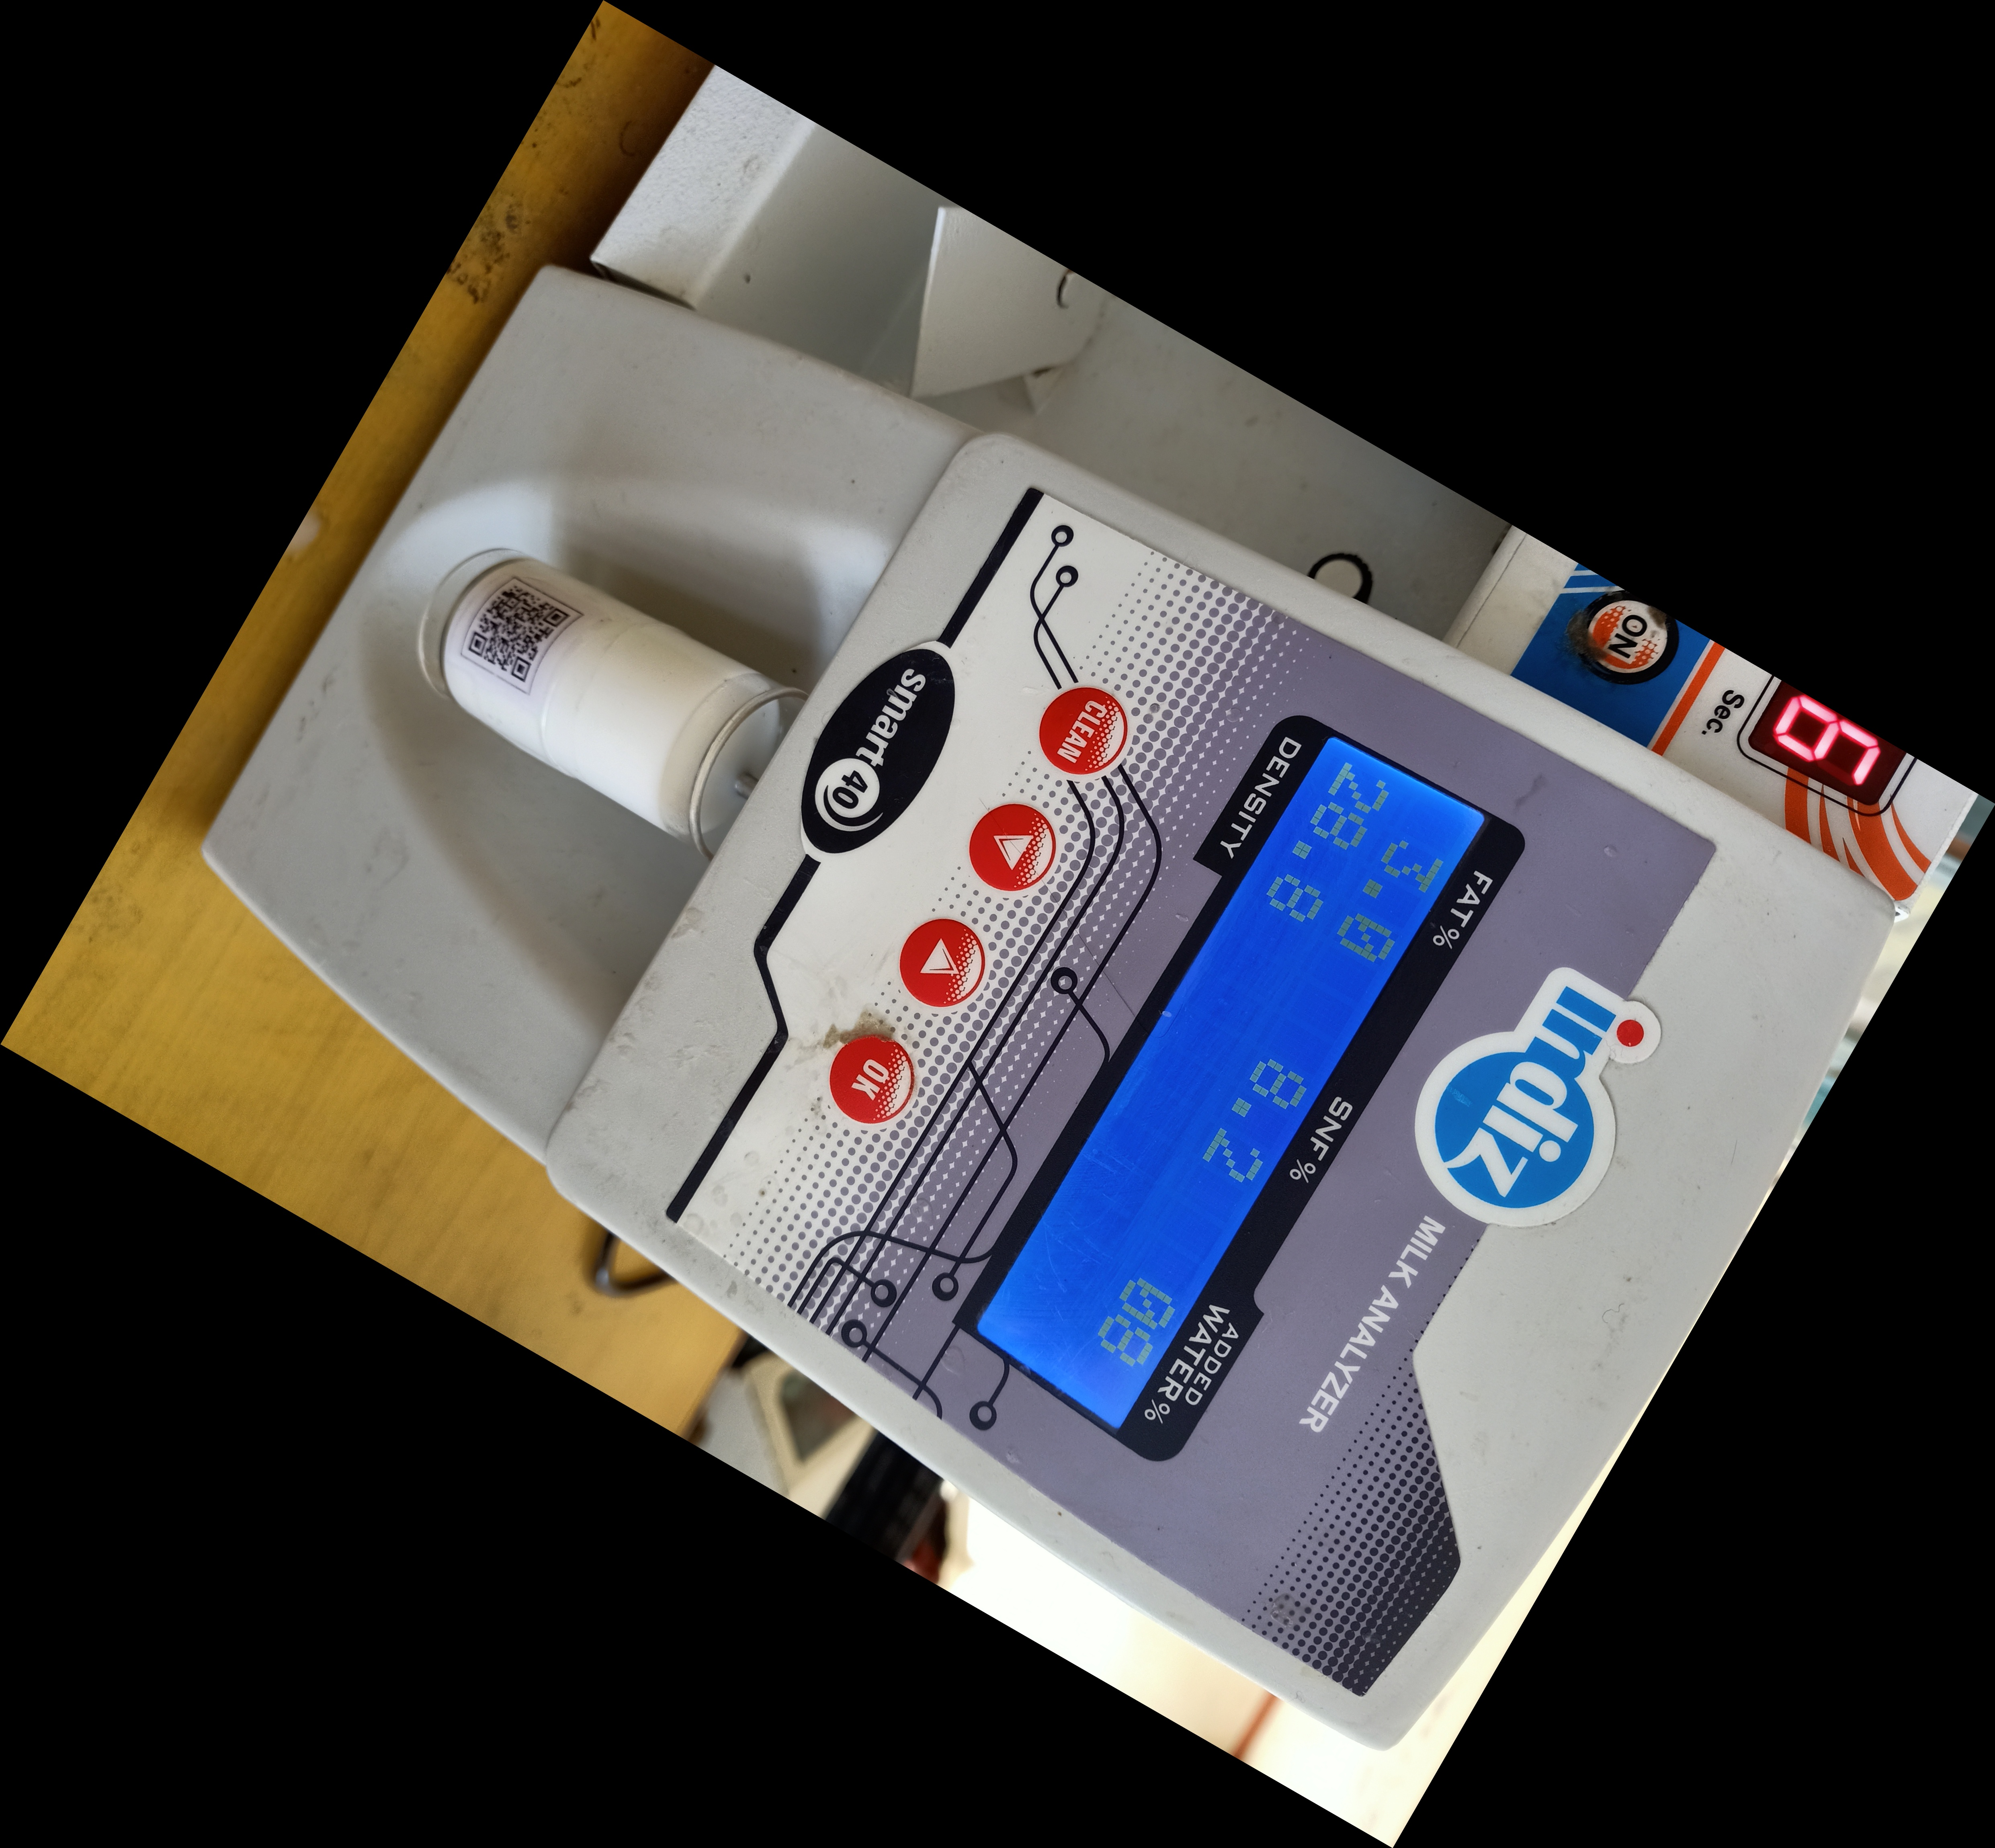lcd: (942, 702, 1555, 1481)
qr: (448, 565, 594, 715)
